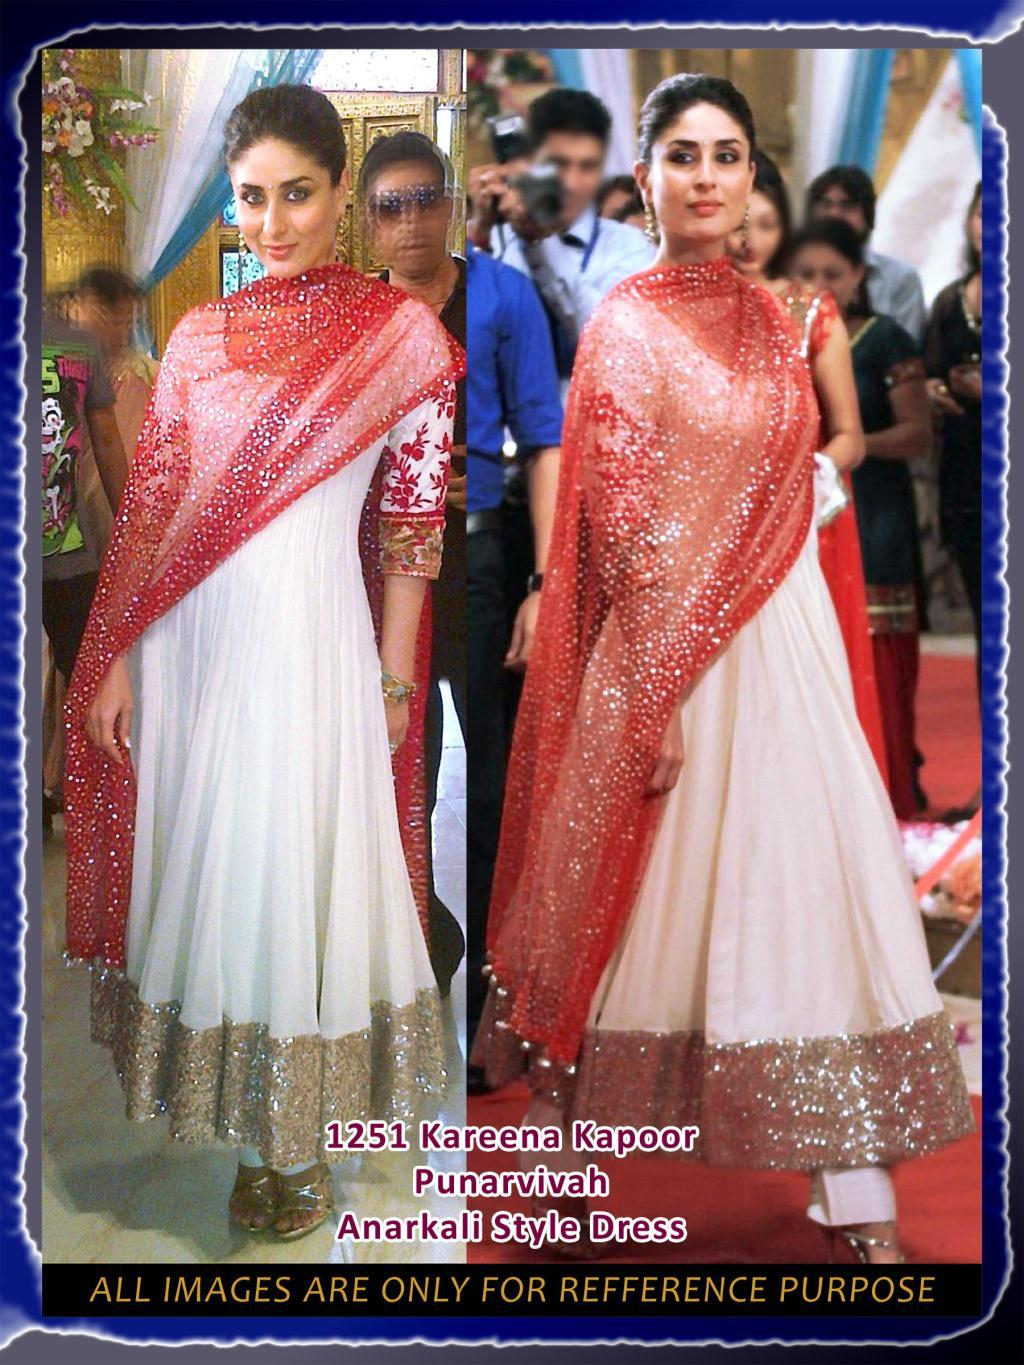face: (232, 159, 334, 278), (649, 118, 749, 236), (371, 176, 448, 275), (536, 138, 602, 220), (719, 195, 781, 270), (797, 252, 851, 317), (815, 189, 860, 244), (604, 194, 635, 241), (972, 201, 999, 252)
